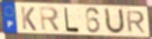6: (85, 6, 102, 35)
K: (20, 6, 38, 32)
L: (64, 7, 81, 34)
R: (38, 6, 62, 33), (125, 10, 147, 34)
U: (104, 7, 126, 35)
